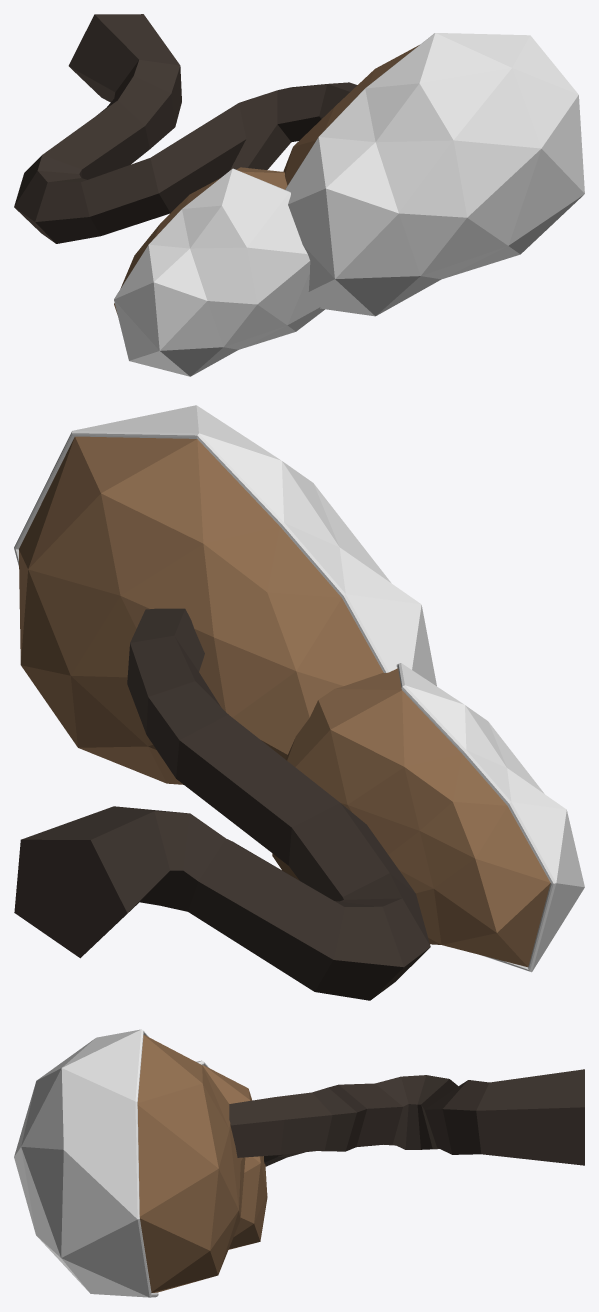
Rendered from laubbaum2.fbx.
3 views of the same model, one above another, from view 1: azimuth 30°, elevation 25°; view 2: azimuth 150°, elevation 25°; view 3: azimuth 270°, elevation 25° (orthographic). The views are drawn at different scales.
Parts seen in each view (by area): view 1: Laub-2; view 2: Laub-2; view 3: Laub-2.
Boxes of the visible parts, x1,y1,x2,y2 form: Laub-2: (14, 14, 584, 376); Laub-2: (14, 405, 584, 1000); Laub-2: (14, 1029, 584, 1297).
Bounding box in the file's own units: 728 × 487 × 808.
